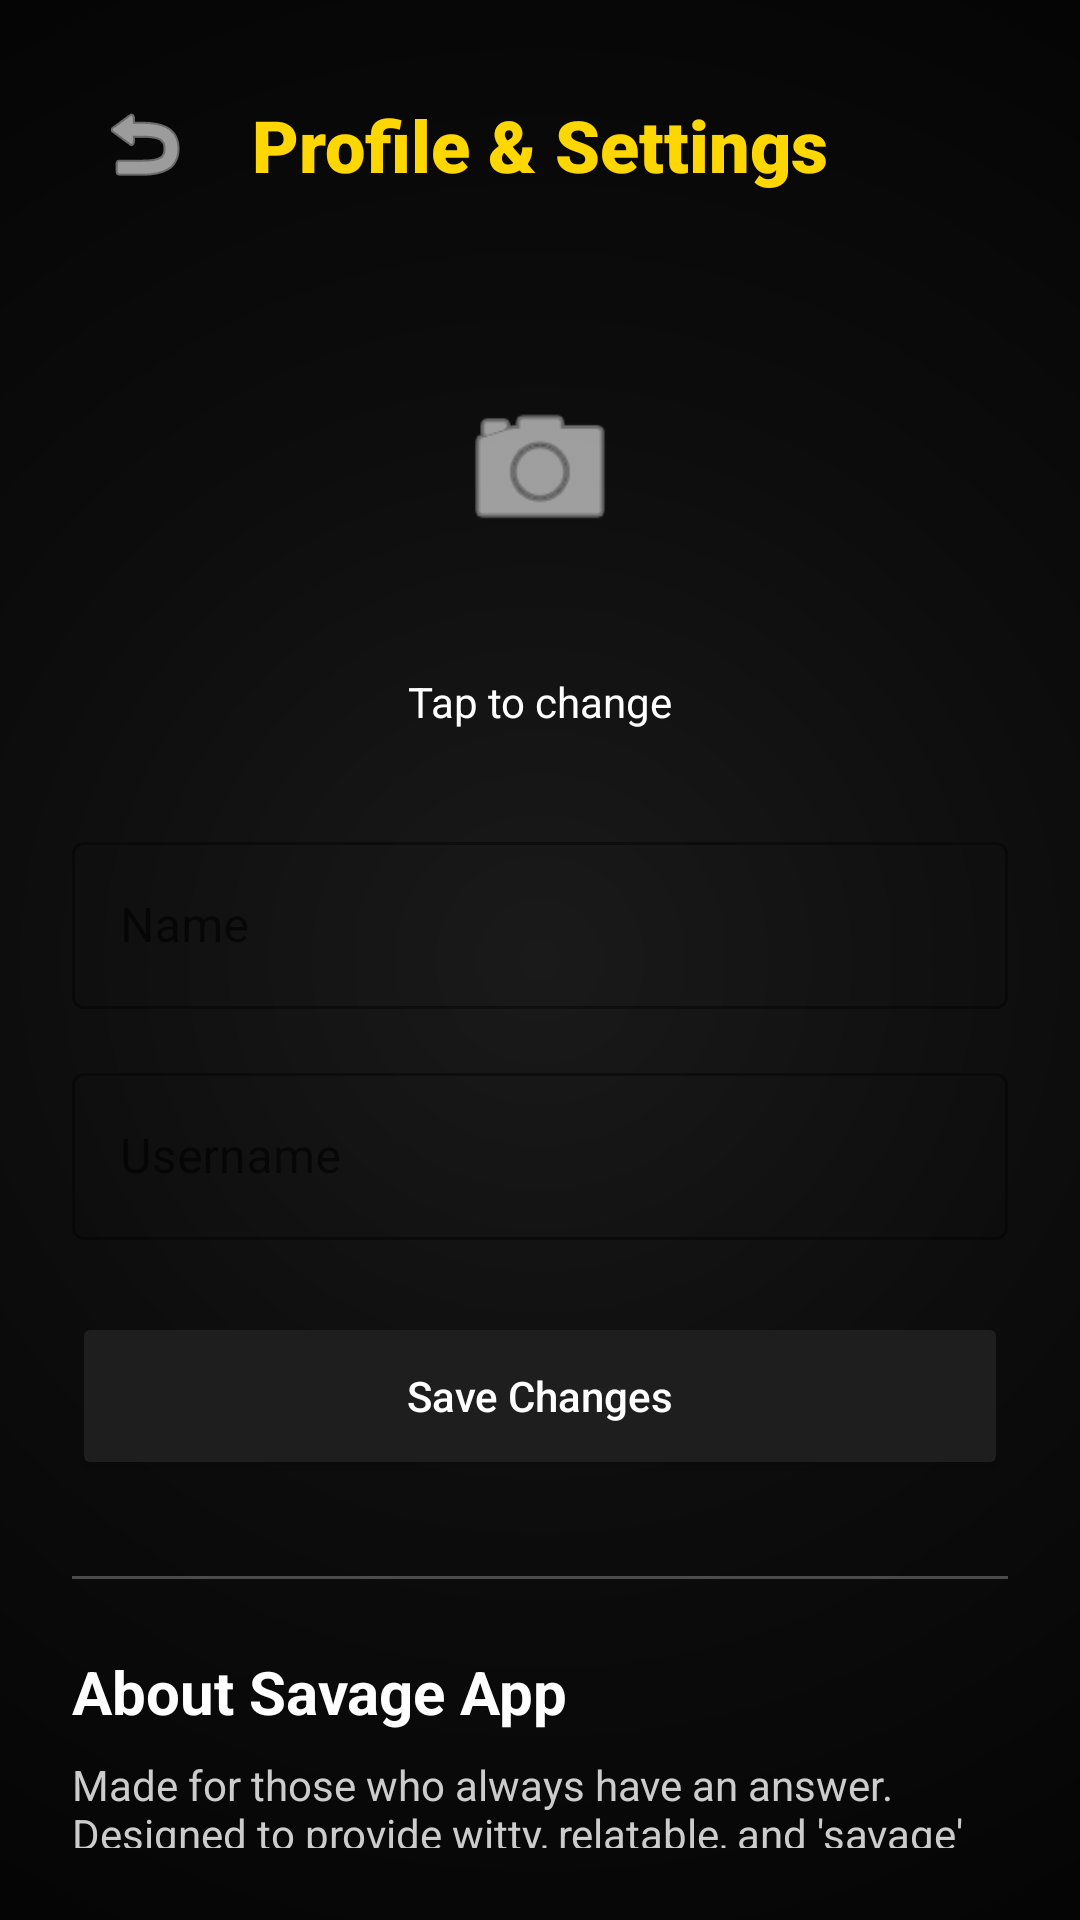

Icon bounding boxes for this 1080w x 1920h phone screenshot, format {"x1": x1, "y1": y1, "x2": x2, "y2": y2}:
camera: {"x1": 475, "y1": 415, "x2": 605, "y2": 518}
revert: {"x1": 111, "y1": 113, "x2": 180, "y2": 176}
